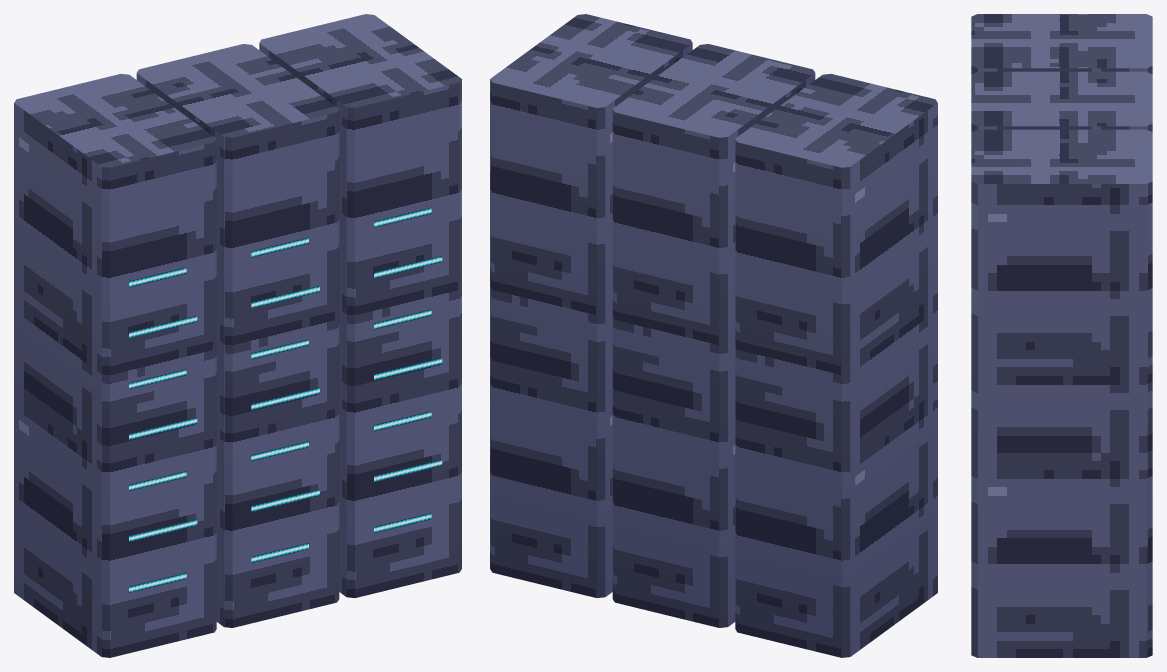
Rendered from cytech.rack__tall.glb.
The picture shows the model from 3 angles, left to right: view 1: azimuth 30°, elevation 25°; view 2: azimuth 150°, elevation 25°; view 3: azimuth 270°, elevation 25°; orthographic projection. The views are drawn at different scales.
Parts seen in each view (by area): view 1: kit_cabinets, kit_card_lights; view 2: kit_cabinets; view 3: kit_cabinets.
Part boxes in pixels (box(x1,y1,x2,y2)): kit_cabinets: box(14, 14, 461, 657); kit_card_lights: box(129, 207, 442, 592); kit_cabinets: box(490, 14, 937, 657); kit_cabinets: box(971, 14, 1152, 657).
Size of the model in its own units: 2 by 2.6 by 0.925.
2 materials, 2 textured.
